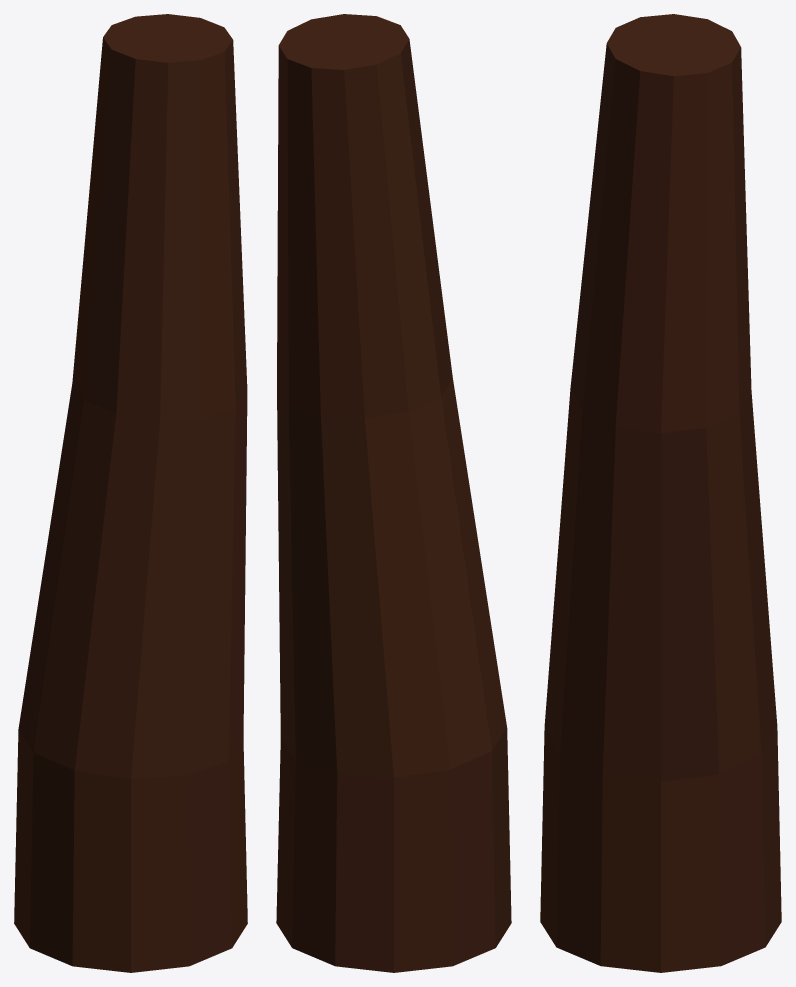
Rendered from N03_Branch_Straight.fbx.
3 renders of one model, left to right at view 1: azimuth 30°, elevation 25°; view 2: azimuth 150°, elevation 25°; view 3: azimuth 270°, elevation 25°, orthographic. The views are drawn at different scales.
Parts seen in each view (by area): view 1: N03_Branch_Straight; view 2: N03_Branch_Straight; view 3: N03_Branch_Straight.
Part boxes in pixels (x1,y1,x2,y2): N03_Branch_Straight: (14, 14, 247, 972); N03_Branch_Straight: (276, 14, 511, 972); N03_Branch_Straight: (540, 14, 781, 972).
Size of the model in its own units: 0.2848 by 1.15 by 0.28.
1 material, 1 textured.
